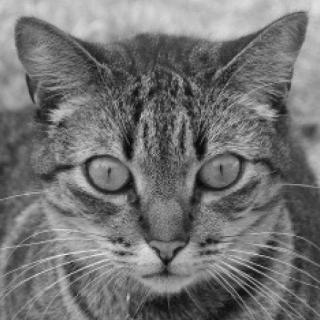cat: (16, 9, 315, 300)
nose: (141, 217, 194, 268)
